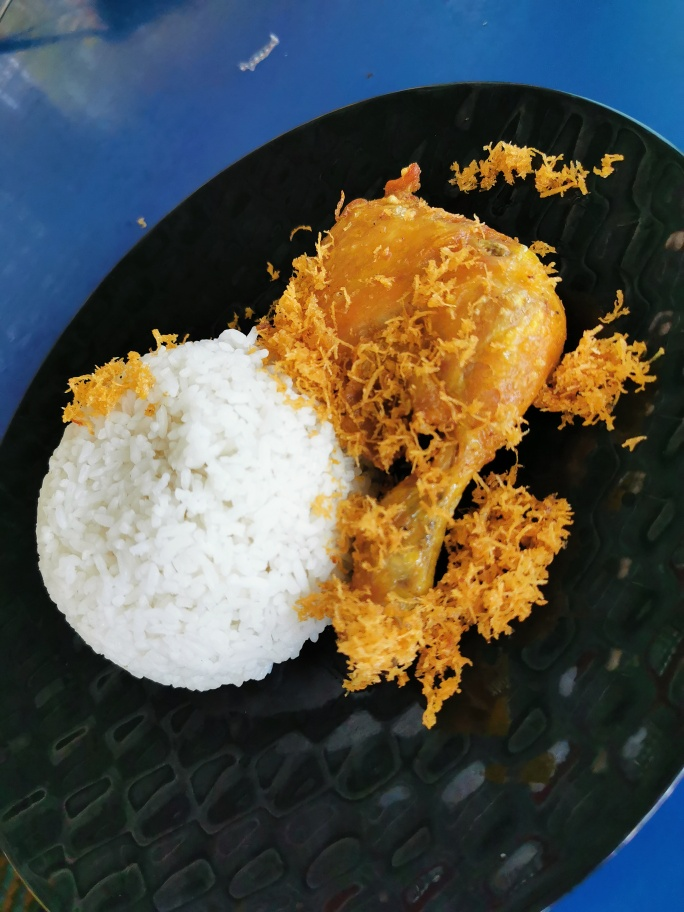ayam goreng: (300, 167, 590, 695)
nasi putih: (31, 321, 374, 705)
